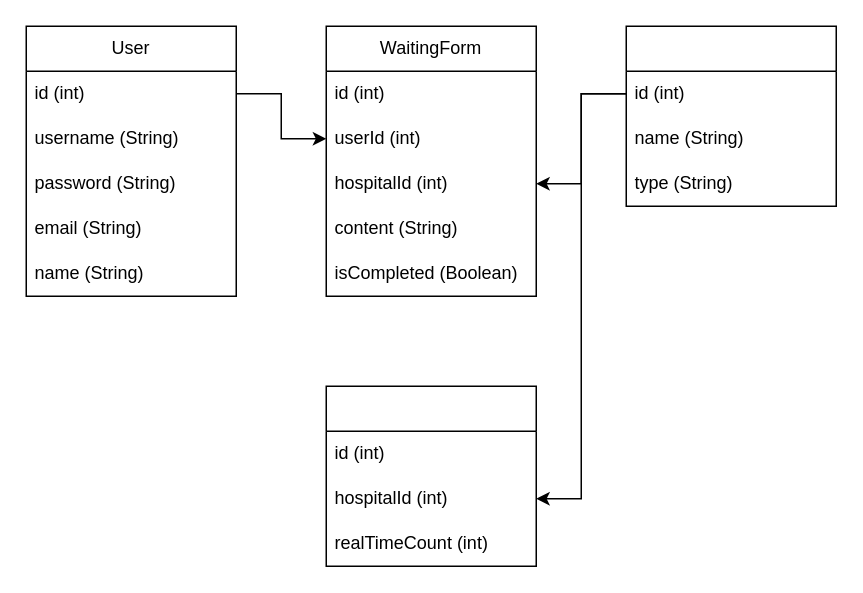
Some shapes in this 863 by 593 pixel diagram are drawn without their labels. The box of each missing label's shape, as (x1, y1, x2, y2) in pixels:
Hospital: (625, 25, 836, 206)
WaintingList: (325, 385, 536, 566)
